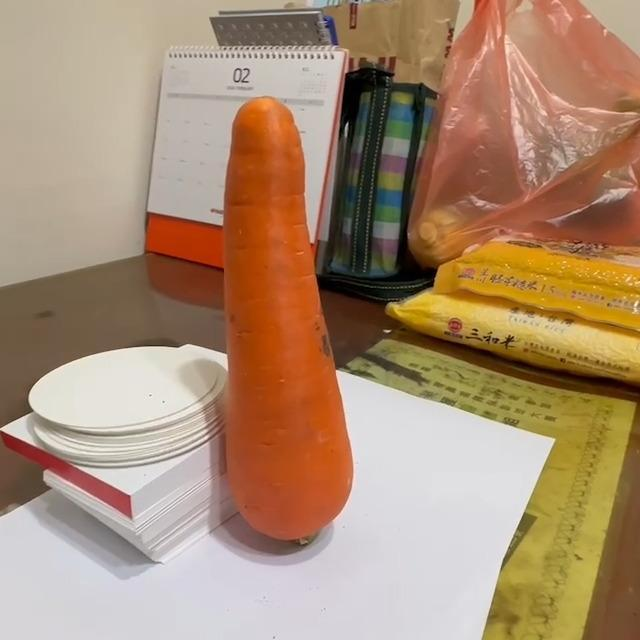carrot: (221, 96, 358, 546)
